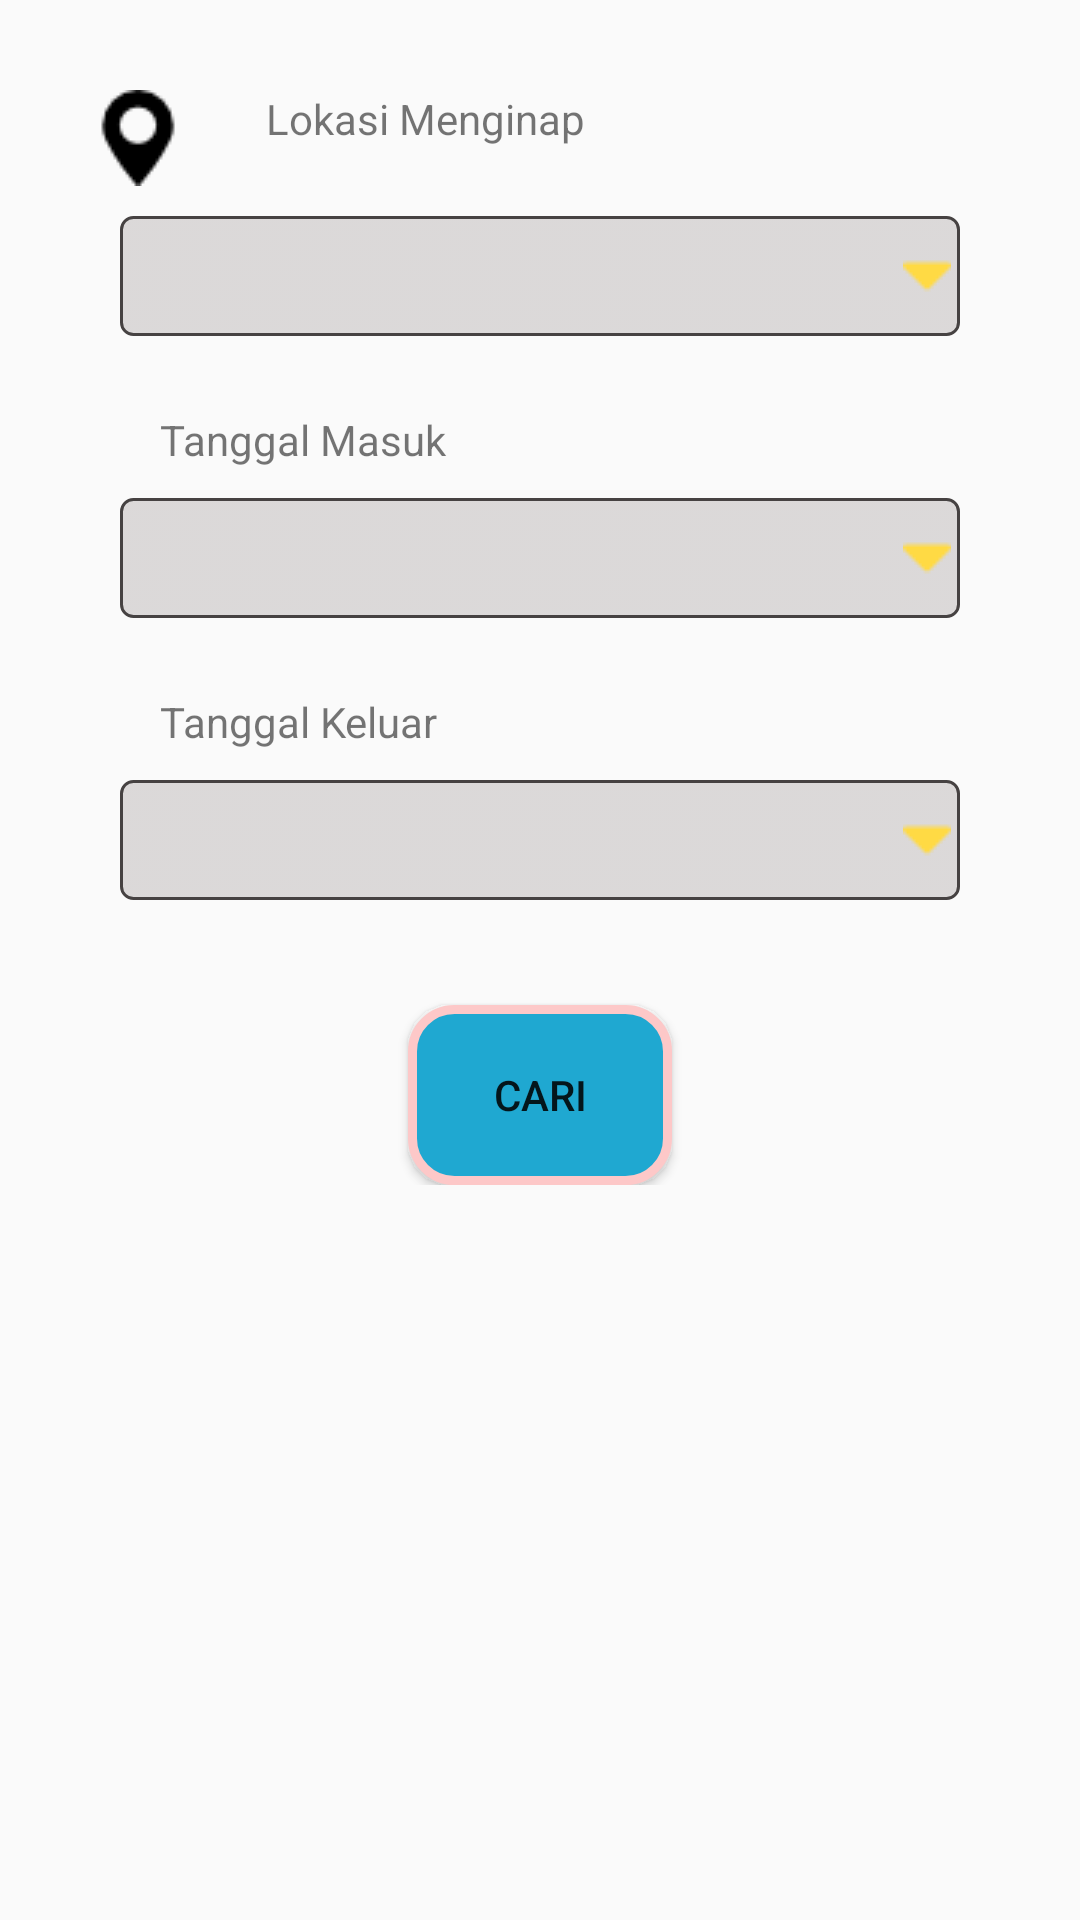

Screen size 1080×1920. Icon name, then its box in pixels as [x1,y1,x2,y2]:
point: [101,90,175,186]
